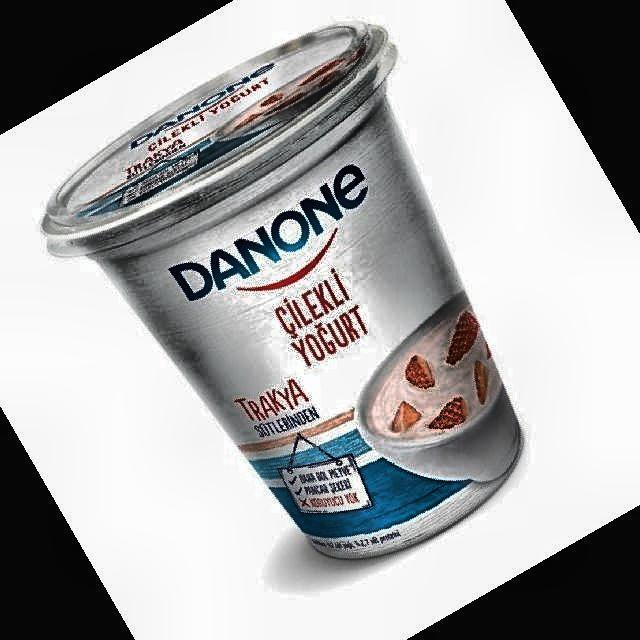plastic: (42, 24, 521, 558)
